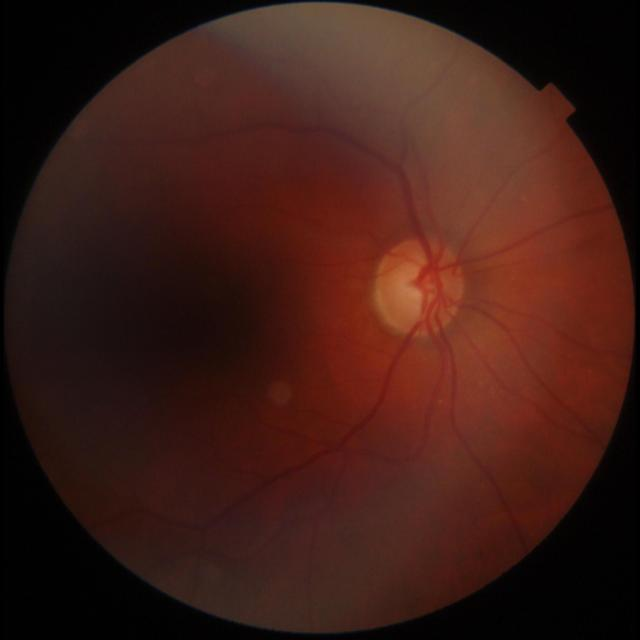OC: (404, 266, 437, 300)
OD: (374, 236, 466, 336)
